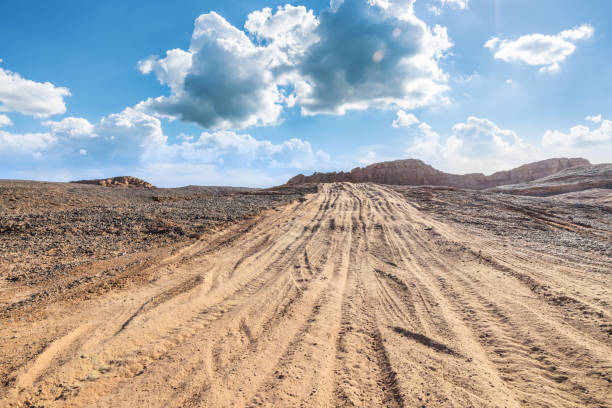vehicle_track: (0, 183, 611, 407)
